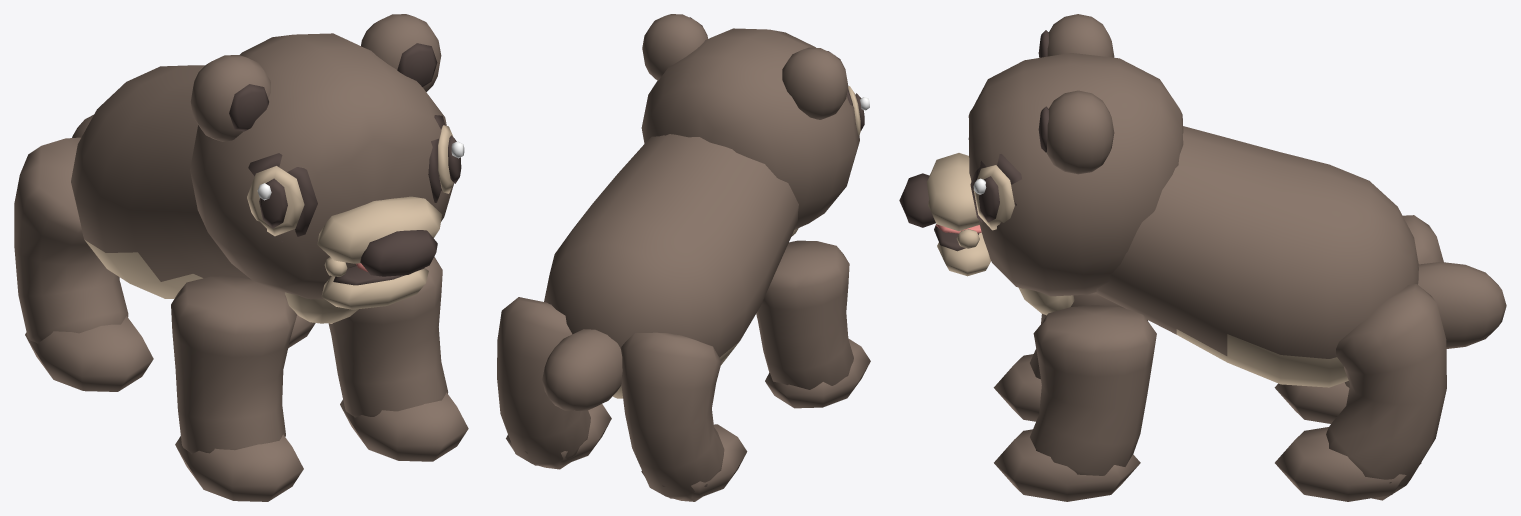
The model's file is beast_cub.glb.
The picture shows the model from 3 angles, left to right: view 1: azimuth 30°, elevation 25°; view 2: azimuth 150°, elevation 25°; view 3: azimuth 270°, elevation 25°; orthographic projection. The views are drawn at different scales.
Visible parts, largest first — view 1: JawUpper, Body, ArmL, ArmR, JawLower; view 2: Body, JawUpper, ArmL, Tails; view 3: Body, JawUpper, ArmR, Tails, ArmL, JawLower.
Part boxes in pixels (x1,y1,x2,y2): JawUpper: (190, 14, 464, 299); Body: (14, 65, 358, 391); ArmL: (171, 276, 303, 501); ArmR: (328, 257, 468, 461); JawLower: (321, 263, 428, 309); Body: (497, 134, 798, 501); JawUpper: (641, 14, 869, 229); ArmL: (756, 240, 870, 408); Tails: (542, 329, 622, 410); Body: (1019, 126, 1446, 501); JawUpper: (899, 14, 1183, 296); ArmR: (994, 305, 1156, 501); Tails: (1418, 262, 1506, 348); ArmL: (993, 292, 1147, 421); JawLower: (934, 224, 990, 276).
Size of the model in its own units: 1.16 by 1.81 by 2.48.
